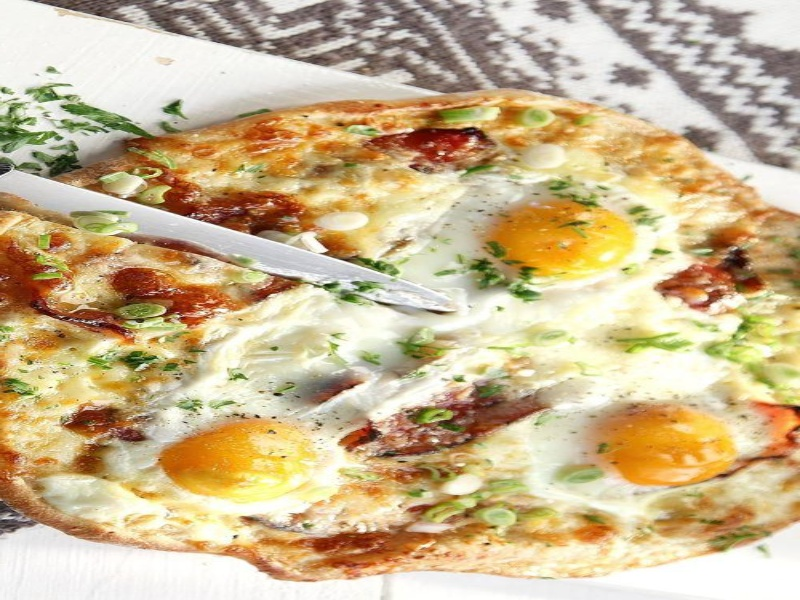oeuf: (480, 189, 645, 291), (150, 415, 329, 508), (600, 390, 743, 485)
